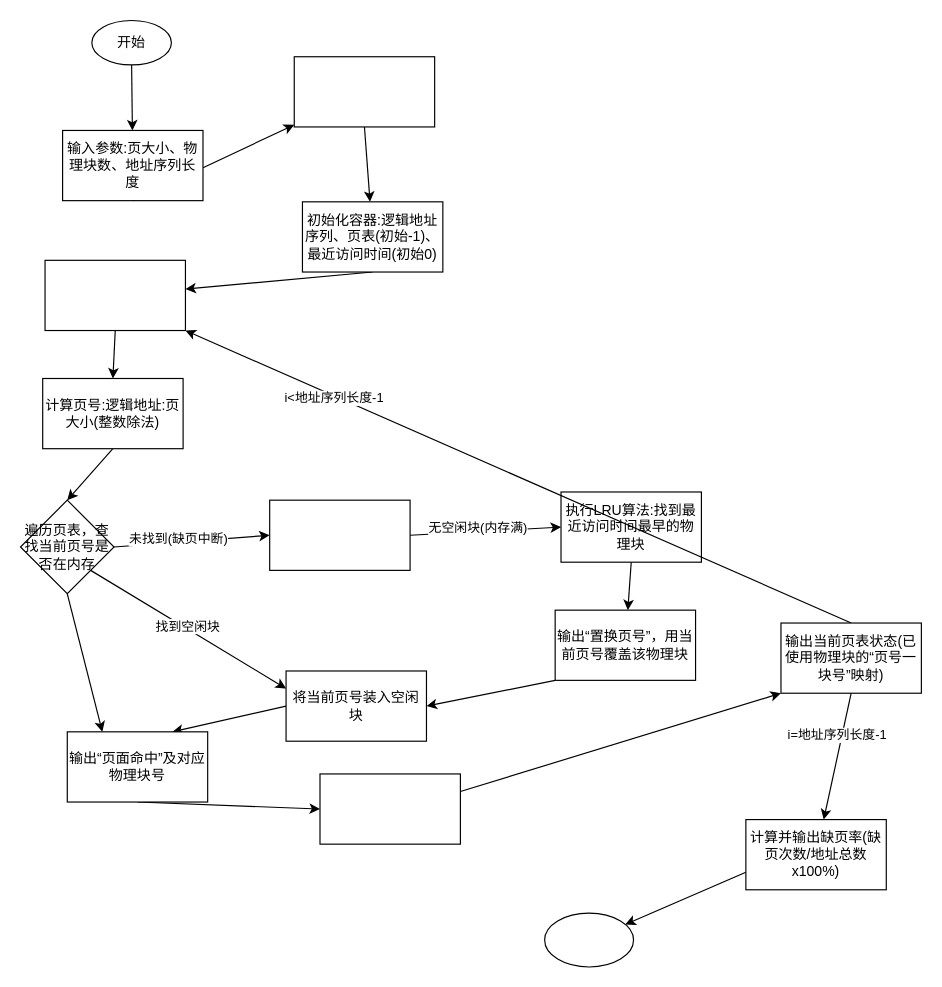
This 942x987 diagram has some shape labels left out. Here are the shapes that lost their labels. From the top down, the centre of each, then its label:
At pixel 364 91: "初始化变量:时间计数器=0、缺页次数=0".
At pixel 114 295: "生成第i个逻辑地址(0<=i<地址序列长度）".
At pixel 339 534: "缺页次数+1，查找空闲物理块".
At pixel 389 808: "更新当前物理块的最近访问时间戳(时间计数器自增)".
At pixel 588 939: "结束".
